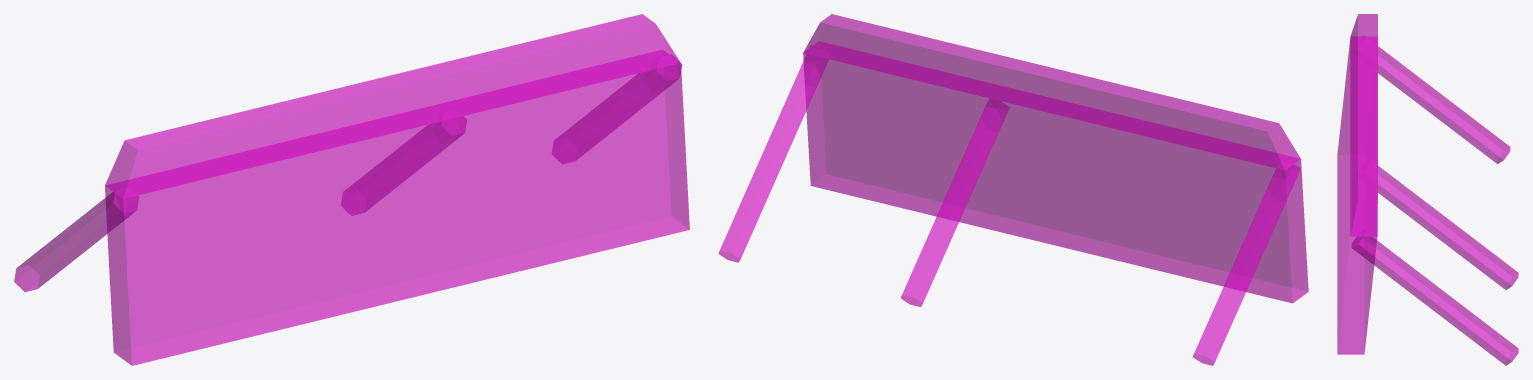
Rendered from SM_Bld_Wall_L_Damaged_Double_Insert_01_Collision.fbx.
3 views of the same model, side by side, from view 1: azimuth 30°, elevation 25°; view 2: azimuth 150°, elevation 25°; view 3: azimuth 270°, elevation 25° (orthographic). The views are drawn at different scales.
Parts seen in each view (by area): view 1: SM_Bld_Wall_L_Damaged_Double_Insert_01_Collision; view 2: SM_Bld_Wall_L_Damaged_Double_Insert_01_Collision; view 3: SM_Bld_Wall_L_Damaged_Double_Insert_01_Collision.
Boxes of the visible parts, x1=… form: SM_Bld_Wall_L_Damaged_Double_Insert_01_Collision: x1=14, y1=14, x2=689, y2=365; SM_Bld_Wall_L_Damaged_Double_Insert_01_Collision: x1=718, y1=14, x2=1308, y2=365; SM_Bld_Wall_L_Damaged_Double_Insert_01_Collision: x1=1337, y1=14, x2=1518, y2=365.
Size of the model in its own units: 1040 by 377 by 390.
